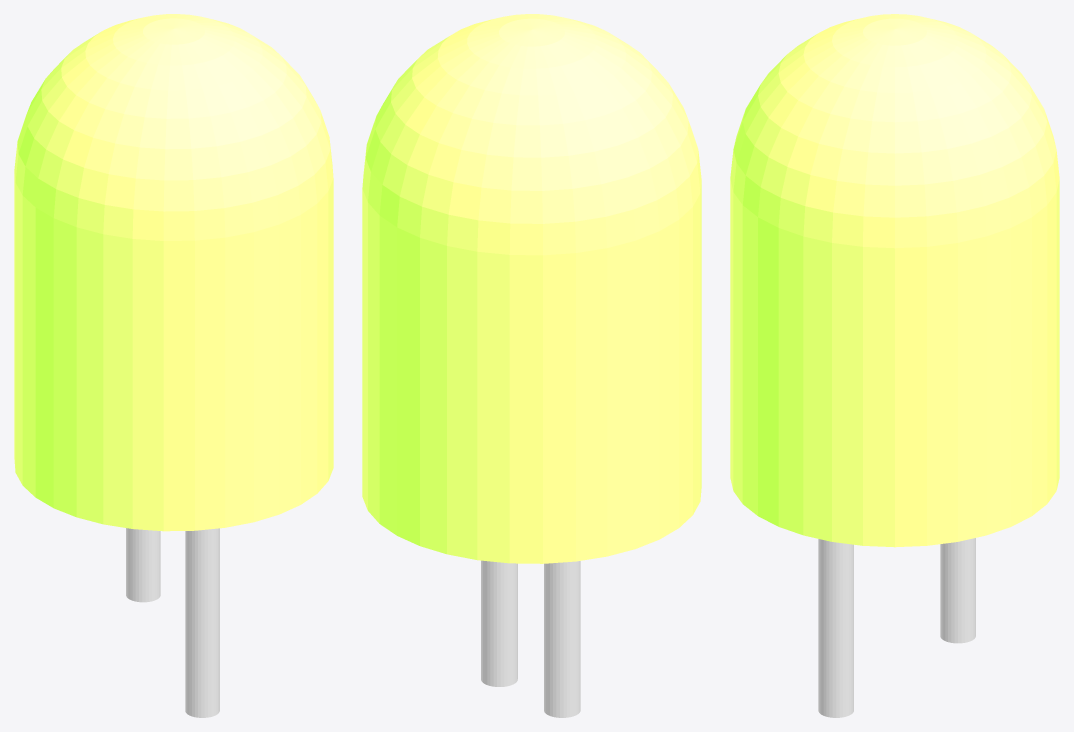
The model's file is ledverde.gltf.
The picture shows the model from 3 angles, left to right: view 1: azimuth 30°, elevation 25°; view 2: azimuth 150°, elevation 25°; view 3: azimuth 270°, elevation 25°; orthographic projection. The views are drawn at different scales.
Visible parts, largest first — view 1: Led, terminales; view 2: Led, terminales; view 3: Led, terminales.
Boxes of the visible parts, bbox=[...] form: Led: bbox=[14, 14, 333, 531]; terminales: bbox=[126, 528, 219, 717]; Led: bbox=[362, 14, 701, 563]; terminales: bbox=[481, 560, 580, 717]; Led: bbox=[730, 14, 1059, 547]; terminales: bbox=[818, 538, 975, 717].
Bounding box in the file's own units: 0.3125 × 0.7128 × 0.3125.
